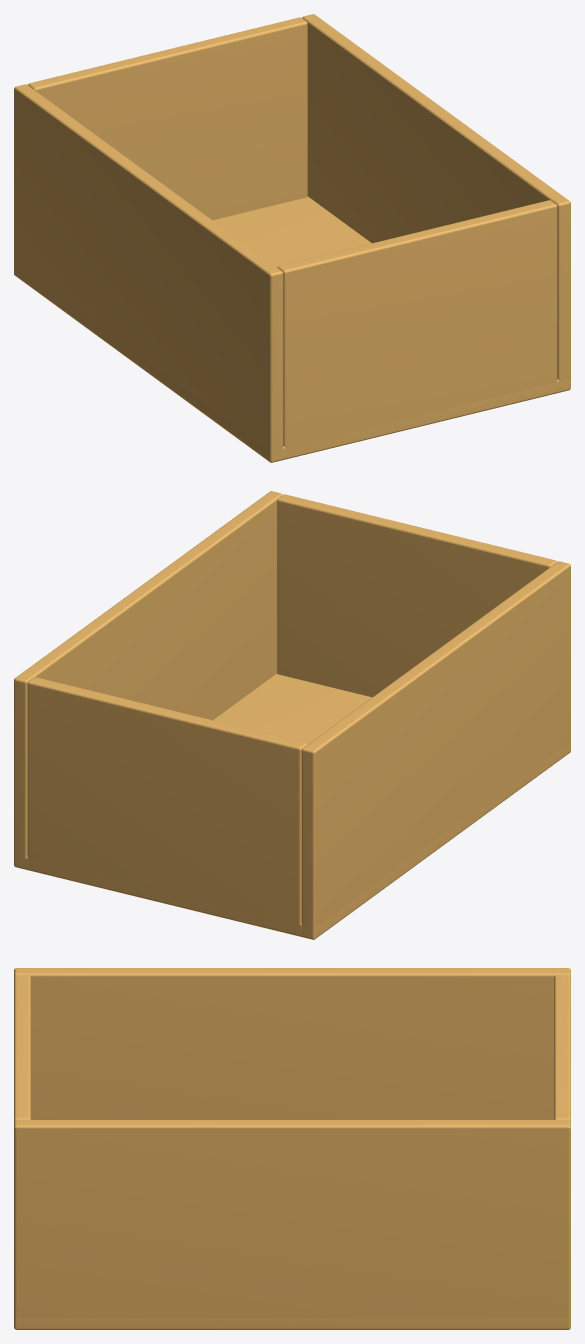
The model's file is BAY.glb.
3 renders of one model, top to bottom at view 1: azimuth 30°, elevation 25°; view 2: azimuth 150°, elevation 25°; view 3: azimuth 270°, elevation 25°, orthographic. The views are drawn at different scales.
Parts seen in each view (by area): view 1: BAY/0001_panel, BAY/0003_panel, BAY/0004_panel, BAY/0002_panel, BAY/0000_panel; view 2: BAY/0004_panel, BAY/0001_panel, BAY/0003_panel, BAY/0002_panel, BAY/0000_panel; view 3: BAY/0002_panel, BAY/0001_panel, BAY/0000_panel, BAY/0003_panel, BAY/0004_panel.
Part boxes in pixels (<box>): BAY/0001_panel: <box>14,84,283,461</box>; BAY/0003_panel: <box>277,200,557,459</box>; BAY/0004_panel: <box>28,17,307,220</box>; BAY/0002_panel: <box>302,14,570,392</box>; BAY/0000_panel: <box>14,196,570,462</box>; BAY/0004_panel: <box>27,677,307,936</box>; BAY/0001_panel: <box>301,561,570,938</box>; BAY/0003_panel: <box>277,494,556,697</box>; BAY/0002_panel: <box>14,491,282,869</box>; BAY/0000_panel: <box>14,673,570,939</box>; BAY/0002_panel: <box>14,1120,570,1328</box>; BAY/0001_panel: <box>14,968,570,1119</box>; BAY/0000_panel: <box>14,1317,570,1329</box>; BAY/0003_panel: <box>14,975,30,1121</box>; BAY/0004_panel: <box>554,975,570,1121</box>.
Bounding box in the file's own units: 0.1 × 0.06 × 0.148.
